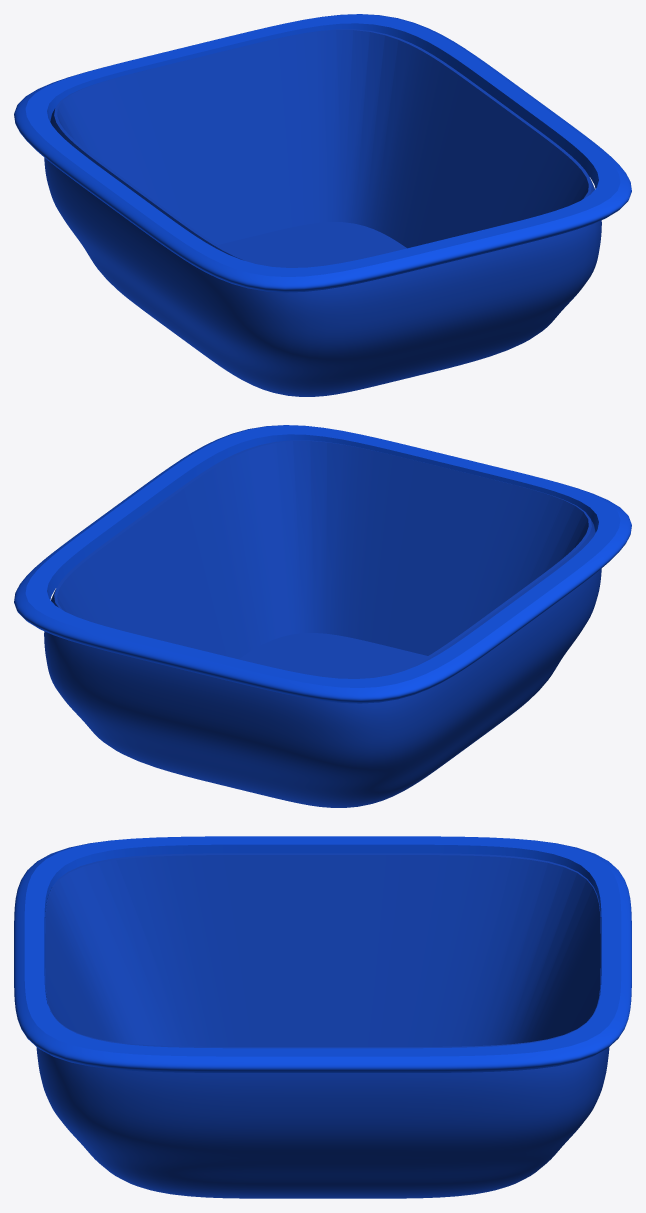
File: basin__74c95870e2a1.glb
3 views of the same model, one above another, from view 1: azimuth 30°, elevation 25°; view 2: azimuth 150°, elevation 25°; view 3: azimuth 270°, elevation 25° (orthographic). The views are drawn at different scales.
Parts seen in each view (by area): view 1: outer, rim; view 2: outer, rim; view 3: outer, rim.
Part boxes in pixels (x1,y1,x2,y2): outer: (44, 29, 601, 396); rim: (14, 14, 631, 292); outer: (44, 440, 601, 807); rim: (14, 425, 631, 703); outer: (36, 853, 609, 1198); rim: (14, 836, 631, 1072).
Bounding box in the file's own units: 0.5274 × 0.1999 × 0.6006.
